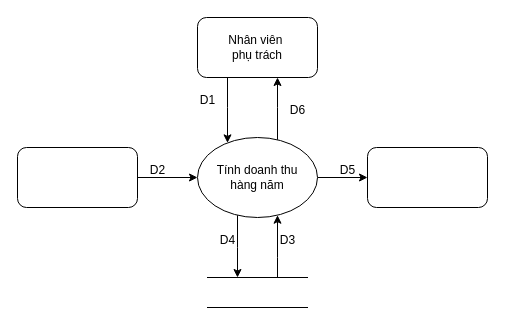
The diagram is 505 pixels wide and 325 high, and some of its shapes have lost their labels. The centre of each missing label's shape, as x and y in pixels:
"Thiết bị nhập" belongs at pixel 77 177.
"Thiết bị Xuất" belongs at pixel 427 177.
